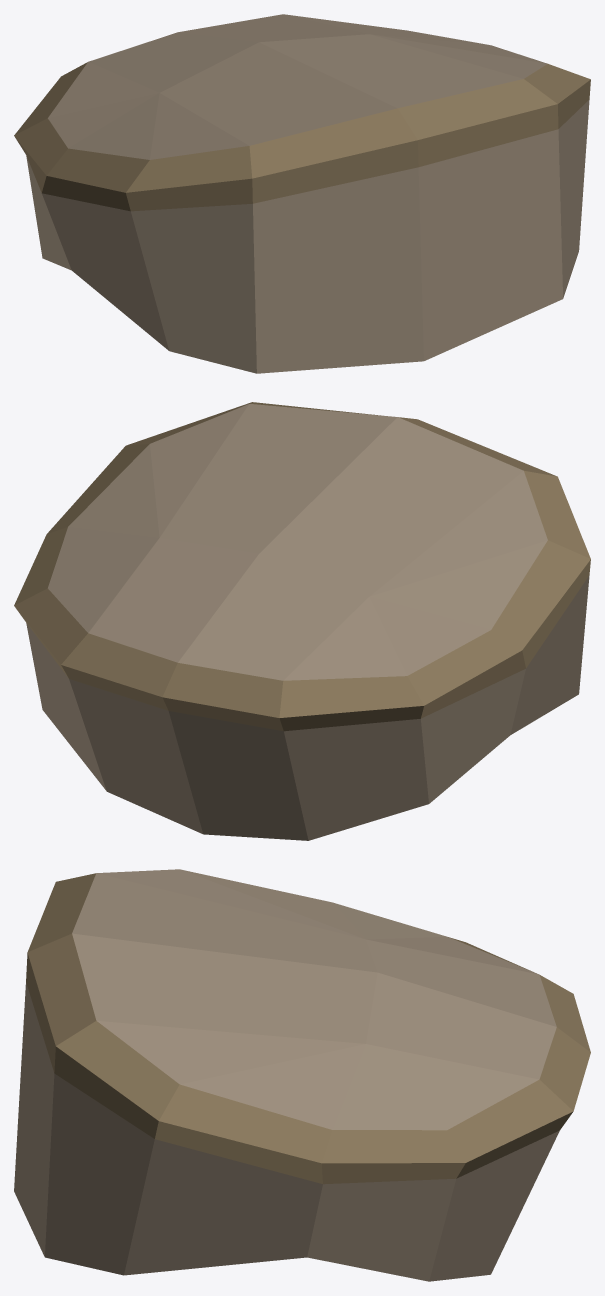
File: SM_Chr_Attach_Hat_06.fbx
The picture shows the model from 3 angles, top to bottom: view 1: azimuth 30°, elevation 25°; view 2: azimuth 150°, elevation 25°; view 3: azimuth 270°, elevation 25°; orthographic projection. The views are drawn at different scales.
Parts seen in each view (by area): view 1: SM_Chr_Attach_Hat_06; view 2: SM_Chr_Attach_Hat_06; view 3: SM_Chr_Attach_Hat_06.
Boxes of the visible parts, bbox=[...] form: SM_Chr_Attach_Hat_06: bbox=[14, 14, 590, 373]; SM_Chr_Attach_Hat_06: bbox=[14, 402, 590, 840]; SM_Chr_Attach_Hat_06: bbox=[14, 869, 590, 1281].
Size of the model in its own units: 22.53 by 12.23 by 21.08.
